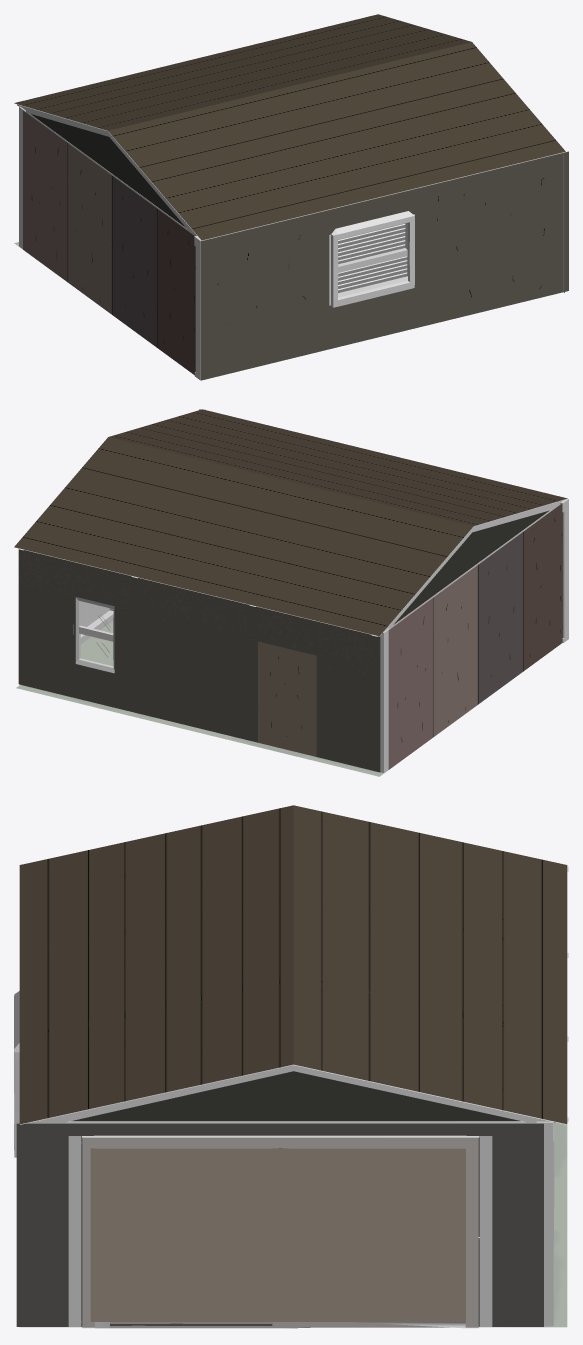
File: Rick and Morty Garage.fbx
The picture shows the model from 3 angles, top to bottom: view 1: azimuth 30°, elevation 25°; view 2: azimuth 150°, elevation 25°; view 3: azimuth 270°, elevation 25°; orthographic projection. The views are drawn at different scales.
Parts seen in each view (by area): view 1: Ceiling, Wall, Wood.001, Wood; view 2: Ceiling, Wall, Floor, Wood, Wood.001, Wall.001; view 3: Ceiling, Wall.001, Wall, Wood.001, Floor, Wood.
Part boxes in pixels (x1,y1,x2,y2): Ceiling: (14, 14, 565, 240); Wall: (23, 110, 568, 380); Wood.001: (194, 152, 561, 380); Wood: (19, 106, 25, 248); Ceiling: (14, 409, 567, 636); Wall: (18, 409, 562, 772); Floor: (16, 621, 388, 776); Wood: (73, 597, 389, 772); Wood.001: (560, 498, 568, 642); Wall.001: (80, 601, 113, 644); Ceiling: (19, 805, 568, 1124); Wall.001: (82, 1137, 478, 1327); Wall: (16, 1123, 543, 1328); Wood.001: (14, 864, 492, 1326); Floor: (20, 1122, 567, 1327); Wood: (536, 1121, 554, 1326).
Size of the model in its own units: 941 by 443 by 841.
